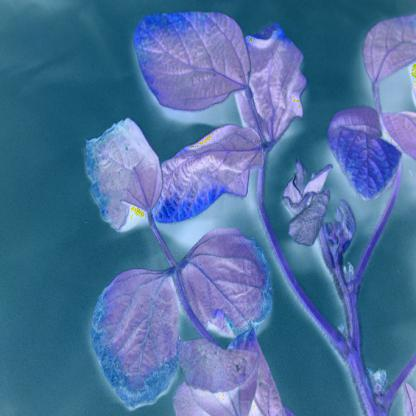soybean leaf: (133, 11, 253, 118), (152, 124, 262, 225)
